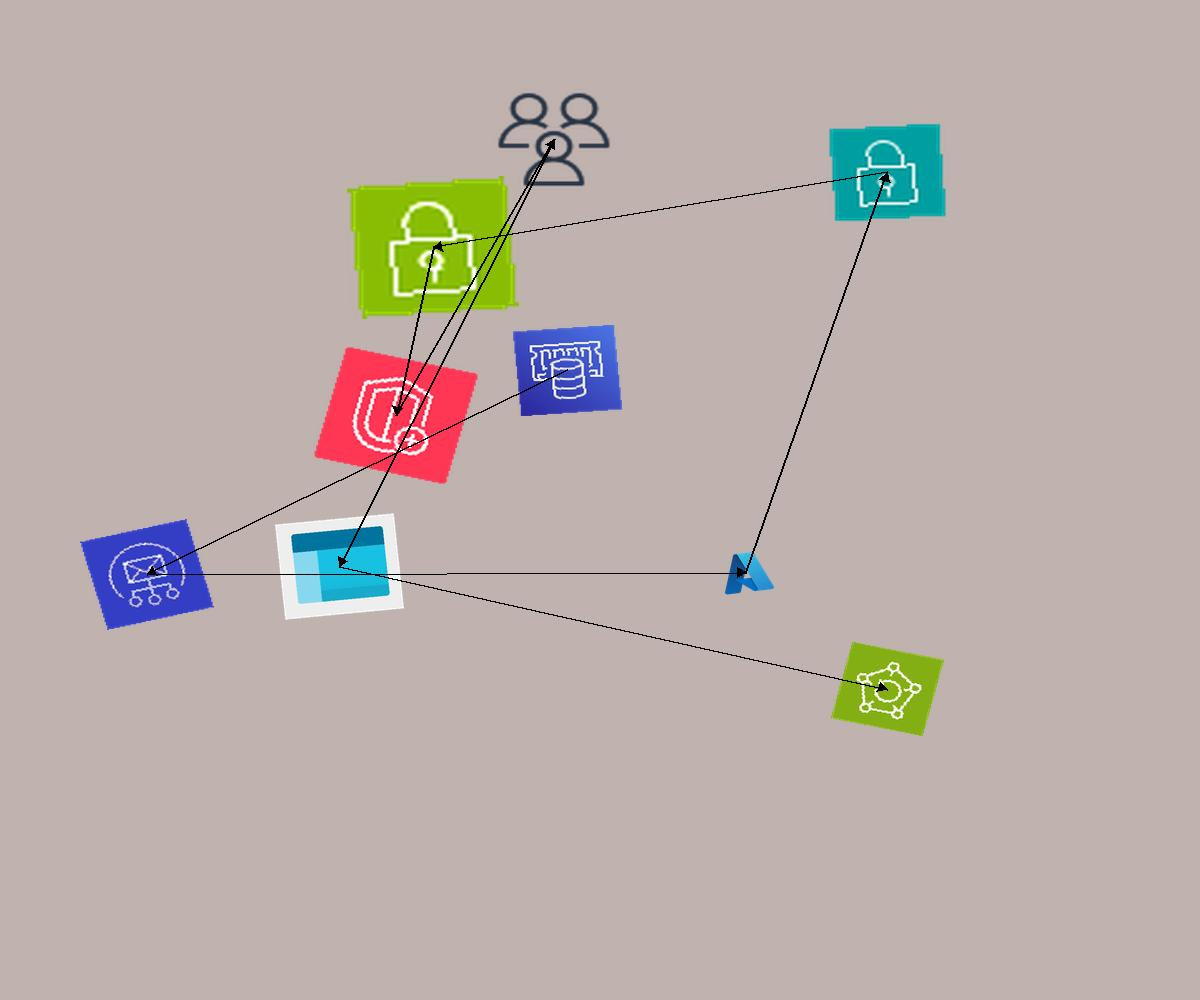AWS-Backup: (830, 641, 945, 737)
AWS-ElastiCache: (512, 324, 623, 417)
AWS-Private-subnet: (827, 122, 948, 223)
AWS-Public-subnet: (347, 176, 519, 319)
AWS-Res_Users: (491, 87, 617, 192)
AWS-Shield: (313, 346, 479, 485)
AWS-Simple-Email-Service: (80, 519, 214, 630)
Azure_management-portal: (275, 513, 404, 620)
Azure_services: (716, 547, 777, 598)
